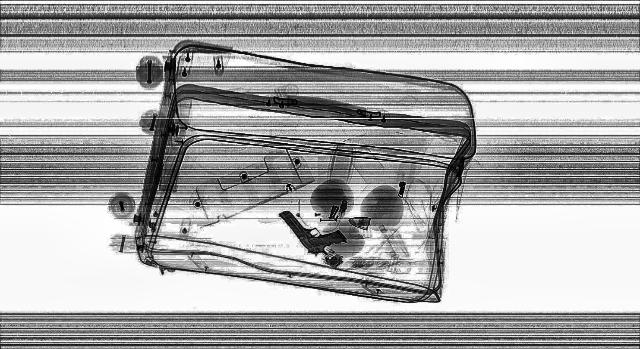Gun: (275, 205, 355, 258)
